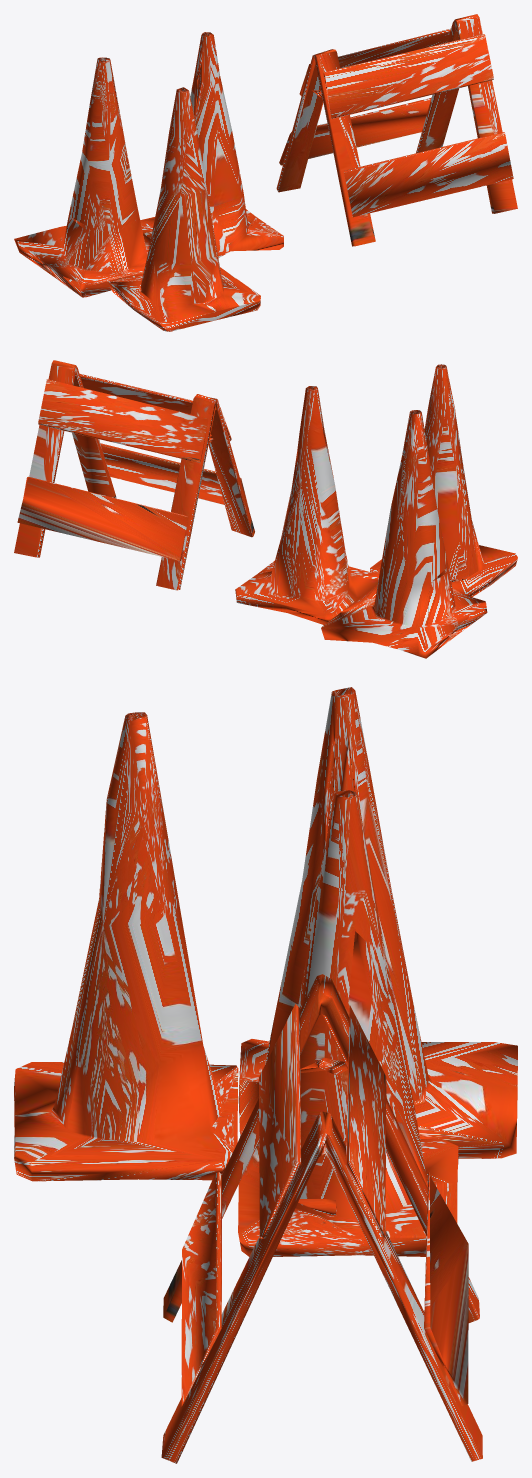
Rendered from cones.glb.
3 renders of one model, top to bottom at view 1: azimuth 30°, elevation 25°; view 2: azimuth 150°, elevation 25°; view 3: azimuth 270°, elevation 25°, orthographic. The views are drawn at different scales.
Size of the model in its own units: 1 by 0.4828 by 0.5278.
1 material, 1 textured.
